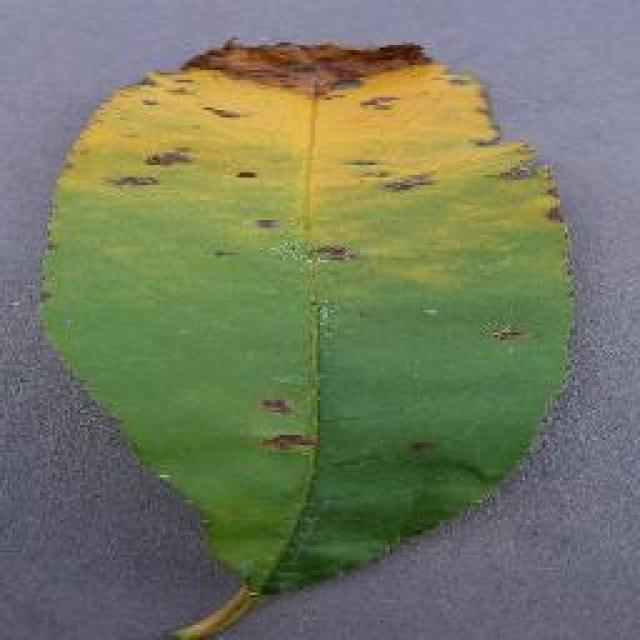Peach_Bacterial_Spot: (150, 16, 455, 312)
